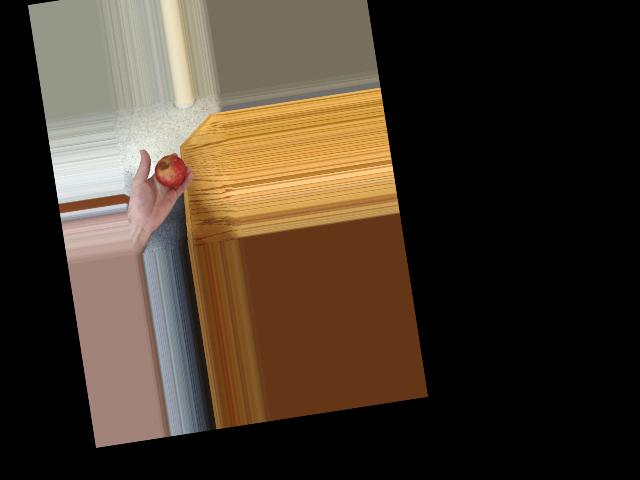apple: (150, 152, 189, 192)
